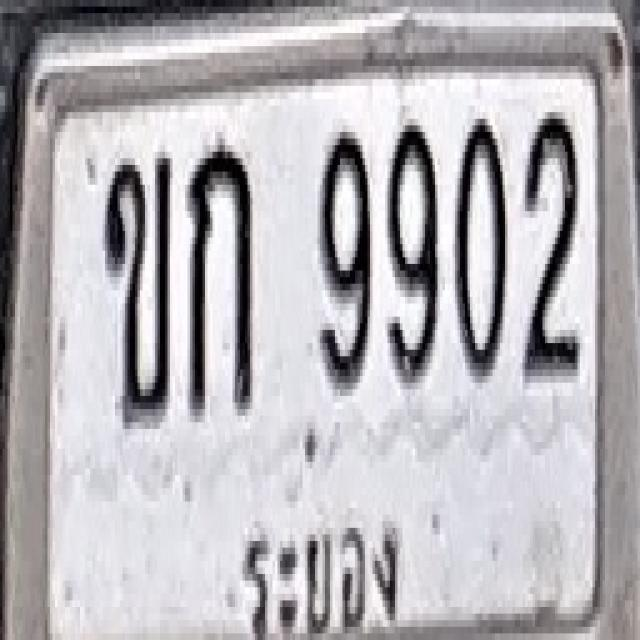0: (454, 109, 506, 379)
2: (522, 106, 578, 376)
9: (319, 126, 371, 390), (385, 119, 437, 382)
A01: (188, 136, 252, 412)
A02: (102, 152, 170, 422)
RYG: (237, 508, 405, 640)
